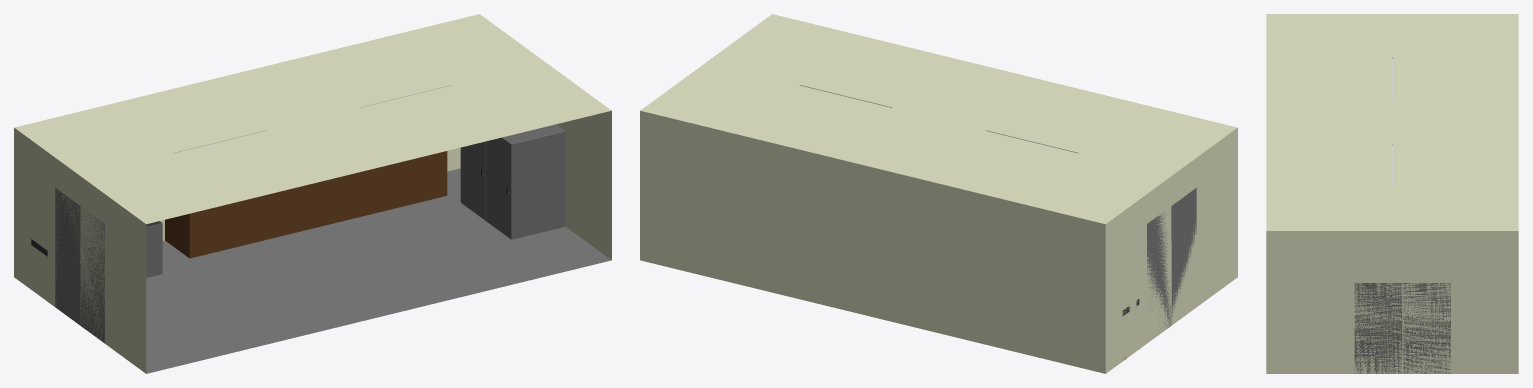
Rendered from Shop.fbx.
The picture shows the model from 3 angles, left to right: view 1: azimuth 30°, elevation 25°; view 2: azimuth 150°, elevation 25°; view 3: azimuth 270°, elevation 25°; orthographic projection. The views are drawn at different scales.
Visible parts, largest first — view 1: Shop, Kuehlschrank.001, Door, Aussteller_1, Aussteller_2, Aussteller_3, Kuehlschrank, Blende_Kasse; view 2: Shop, Door; view 3: Shop, Kuehlschrank.001, Kuehlschrank.
Part boxes in pixels (x1,y1,x2,y2): Shop: [14, 14, 611, 373]; Kuehlschrank.001: [486, 124, 565, 239]; Door: [55, 188, 104, 342]; Aussteller_1: [165, 193, 275, 258]; Aussteller_2: [275, 172, 361, 237]; Aussteller_3: [361, 151, 447, 216]; Kuehlschrank: [460, 141, 485, 220]; Blende_Kasse: [146, 223, 162, 277]; Shop: [640, 14, 1237, 373]; Door: [1147, 188, 1196, 331]; Shop: [1266, 14, 1518, 373]; Kuehlschrank.001: [1354, 283, 1402, 373]; Kuehlschrank: [1403, 283, 1450, 373].
Size of the model in its own units: 814 by 250 by 400.
